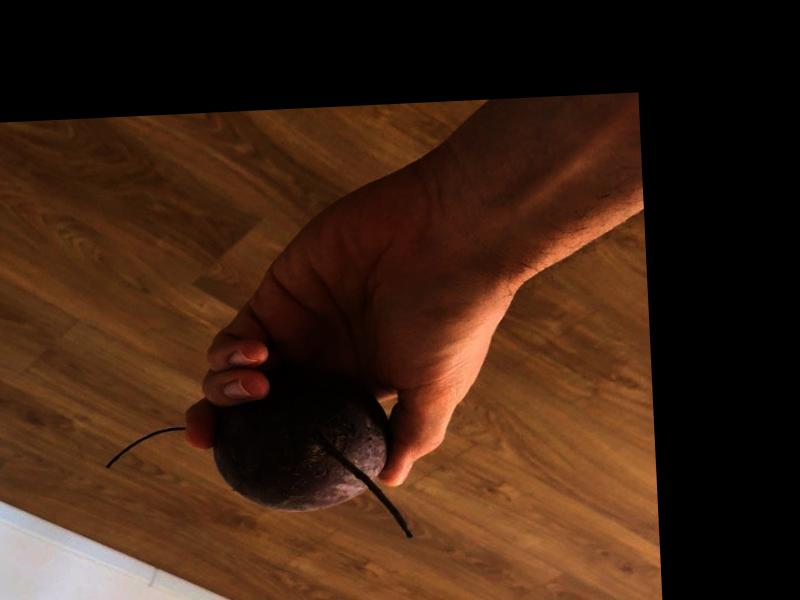Beet: (100, 365, 411, 551)
